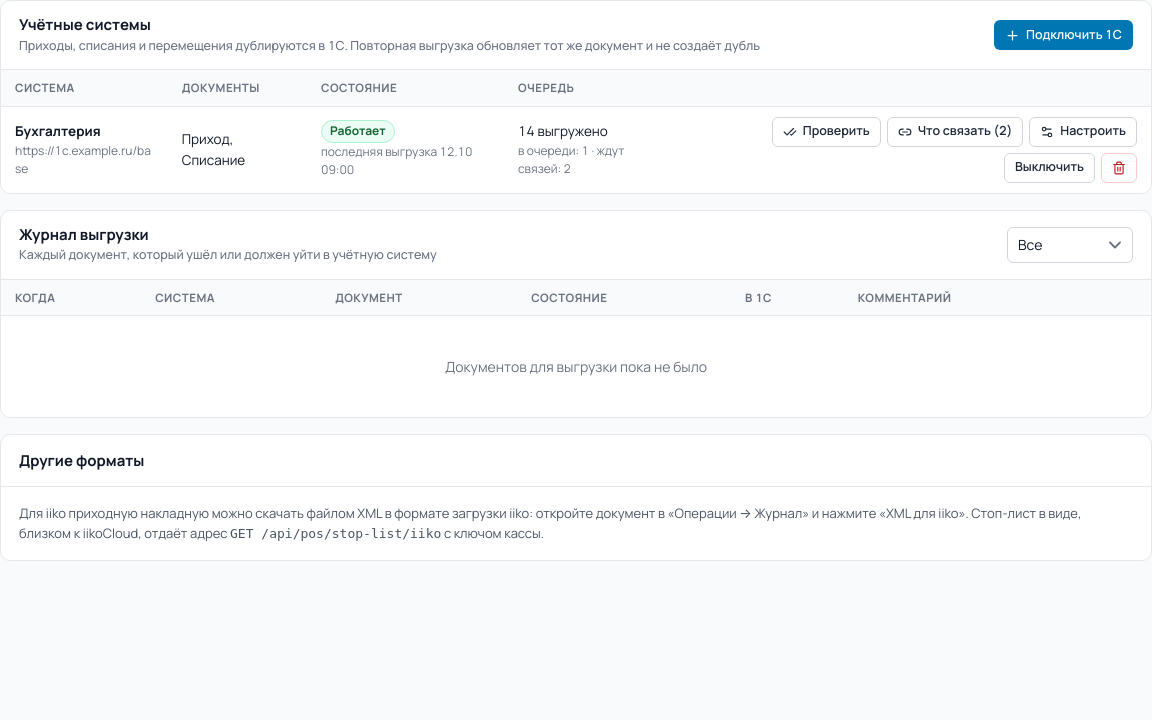
Test: панель учётных систем › «Что связать» показывает то, чего не хватает 1С
Click the button "Что связать (2)": (955, 132) [887,116,1023,146]
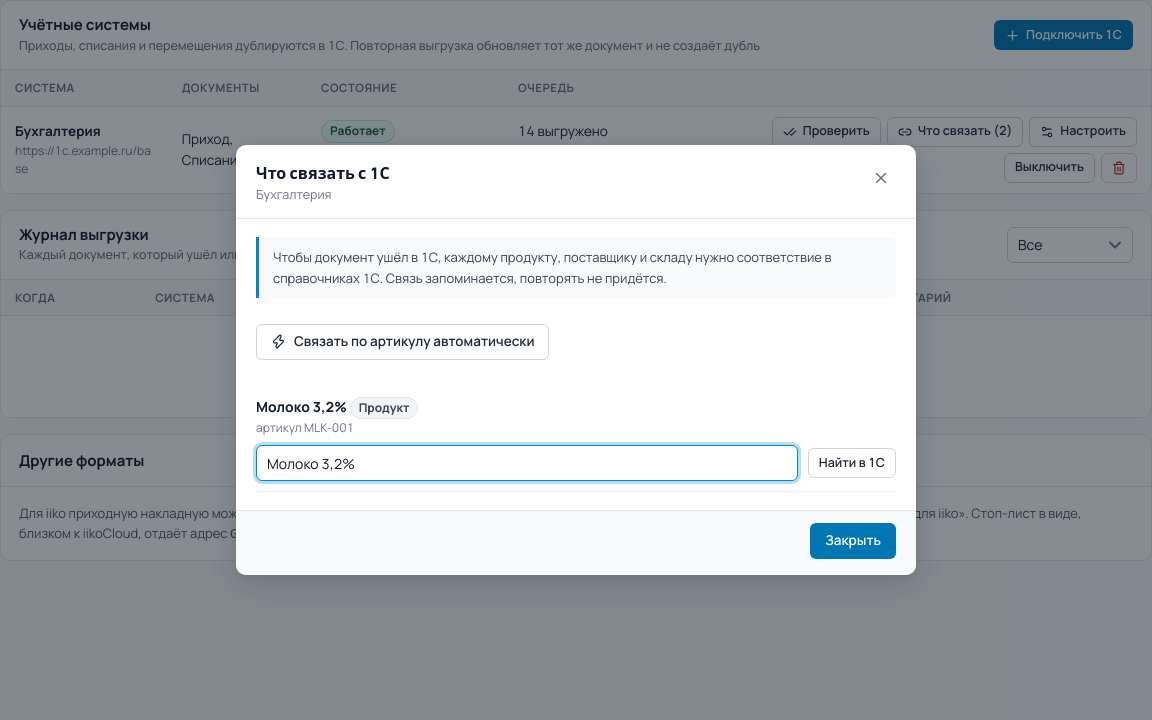
Check: the text "Молоко 3,2%" is shown, box [256,397,347,416]
Check: the text "артикул MLK-001" is shown, box [256,419,354,436]
Check: the button "Связать по артикулу автоматически" is shown, box [256,324,550,360]
